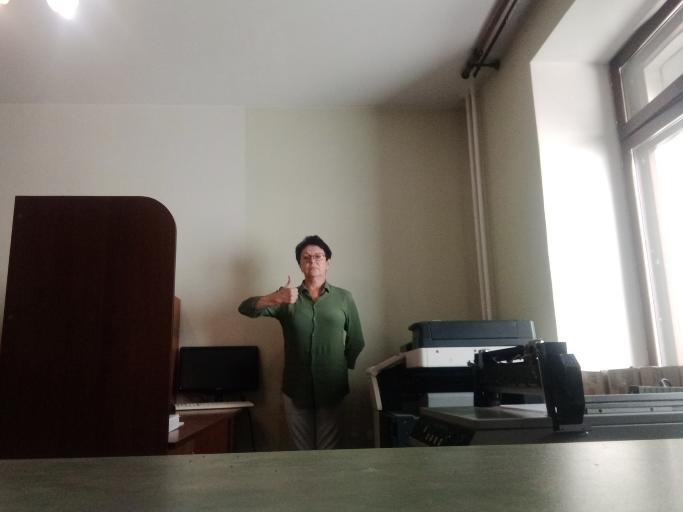like: (275, 274, 298, 305)
